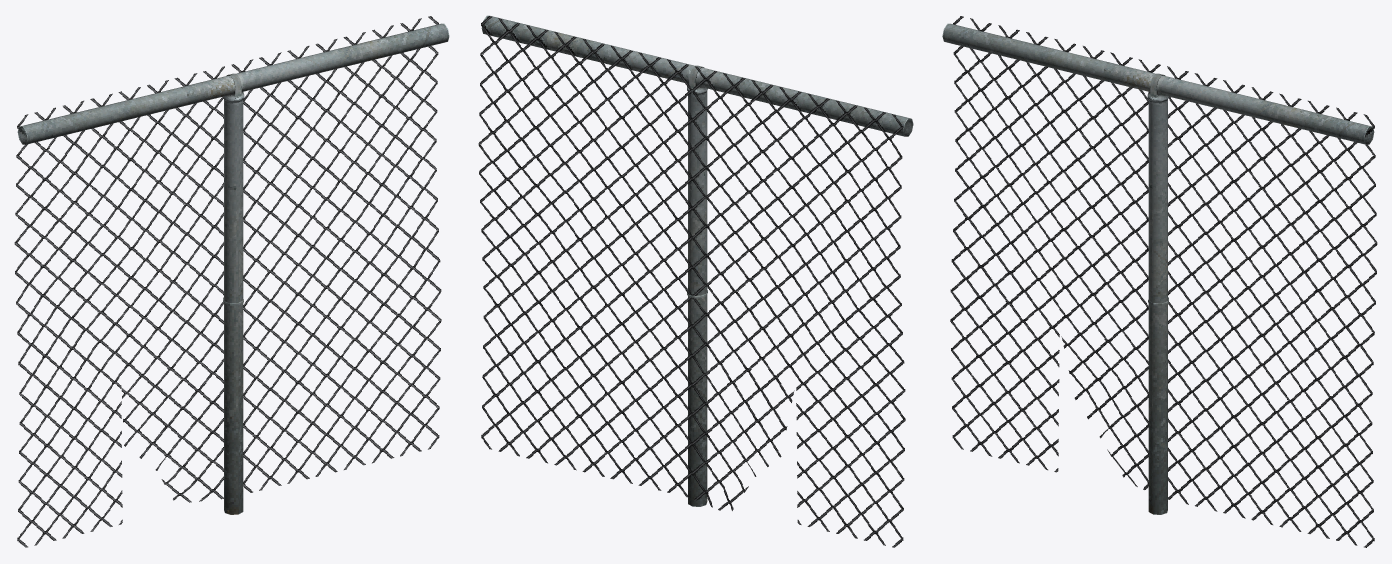
Rendered from chain_link_fence_02.glb.
3 views of the same model, side by side, from view 1: azimuth 30°, elevation 25°; view 2: azimuth 150°, elevation 25°; view 3: azimuth 330°, elevation 25° (orthographic).
Visible parts, largest first — view 1: chain_link_fence_02; view 2: chain_link_fence_02; view 3: chain_link_fence_02.
Boxes of the visible parts, x1,y1,x2,y2 form: chain_link_fence_02: (14,16,449,547); chain_link_fence_02: (478,15,913,547); chain_link_fence_02: (942,16,1377,547).
Bounding box in the file's own units: 2 × 2 × 0.1518.
Materials: 2 (2 with a texture image).
